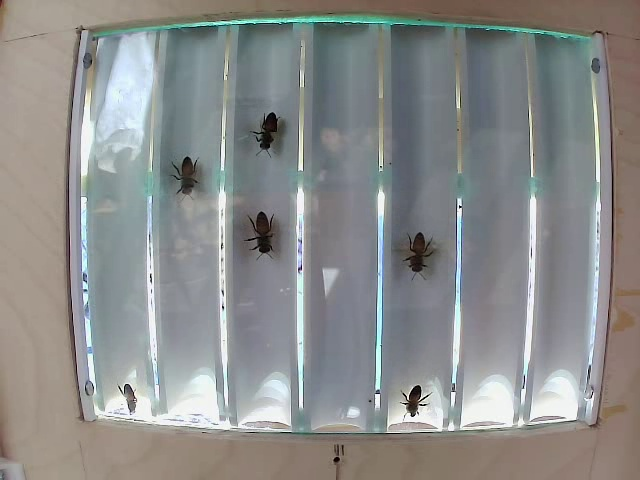bee: (237, 199, 295, 268), (175, 147, 223, 209), (393, 217, 434, 286), (256, 100, 301, 161)
